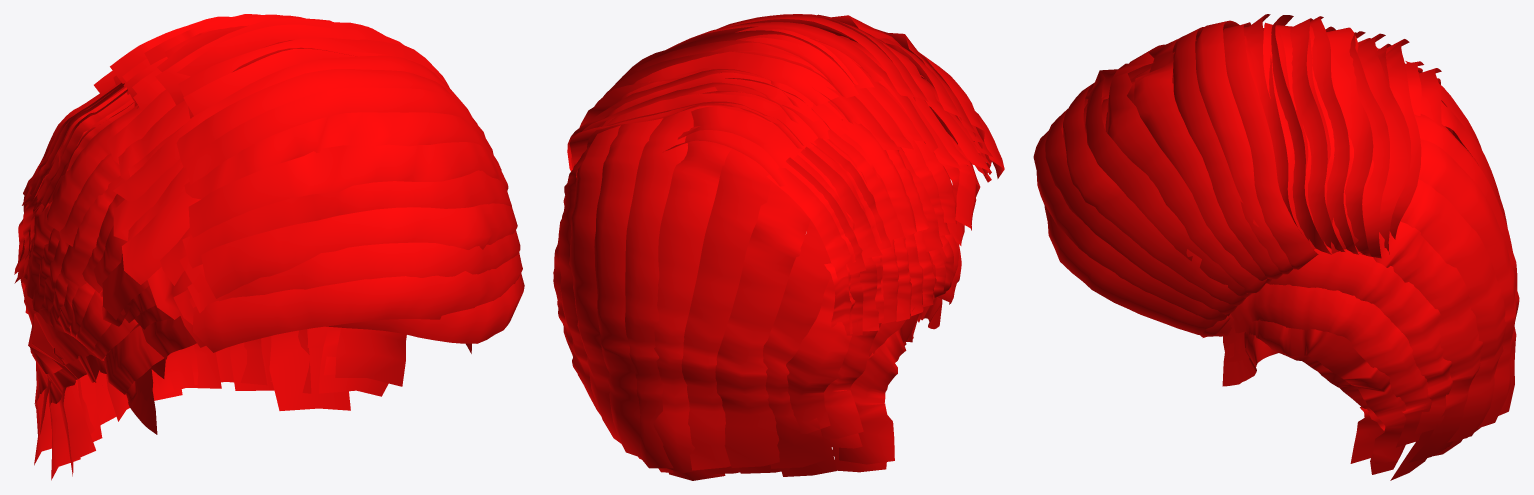
File: elvs_grump_hair_F.glb
The picture shows the model from 3 angles, left to right: view 1: azimuth 30°, elevation 25°; view 2: azimuth 150°, elevation 25°; view 3: azimuth 270°, elevation 25°; orthographic projection. The views are drawn at different scales.
Bounding box in the file's own units: 0.1941 × 0.2023 × 0.2265.
Materials: 1 (1 with a texture image).
